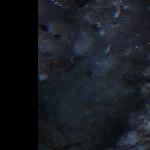dead: (33, 1, 147, 147)
